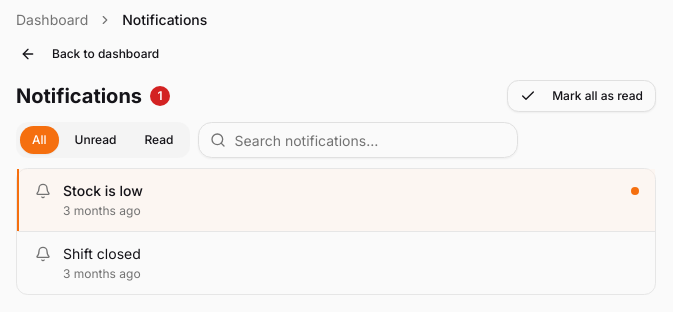
Scenario: NotificationsPage › filters the list by search text against the notification message
Type "shift" into the field with placeholder "Search notifications…".
click(358, 140); type("shift")  # box [198, 122, 518, 158]
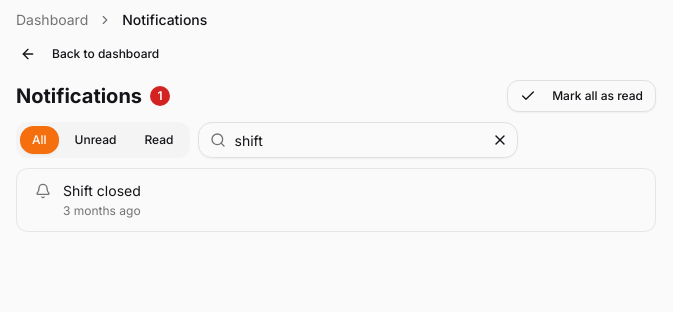
Expected: the text "Shift closed" is shown, [63, 182, 141, 199]
Expected: the button "Stock is low" is gone
